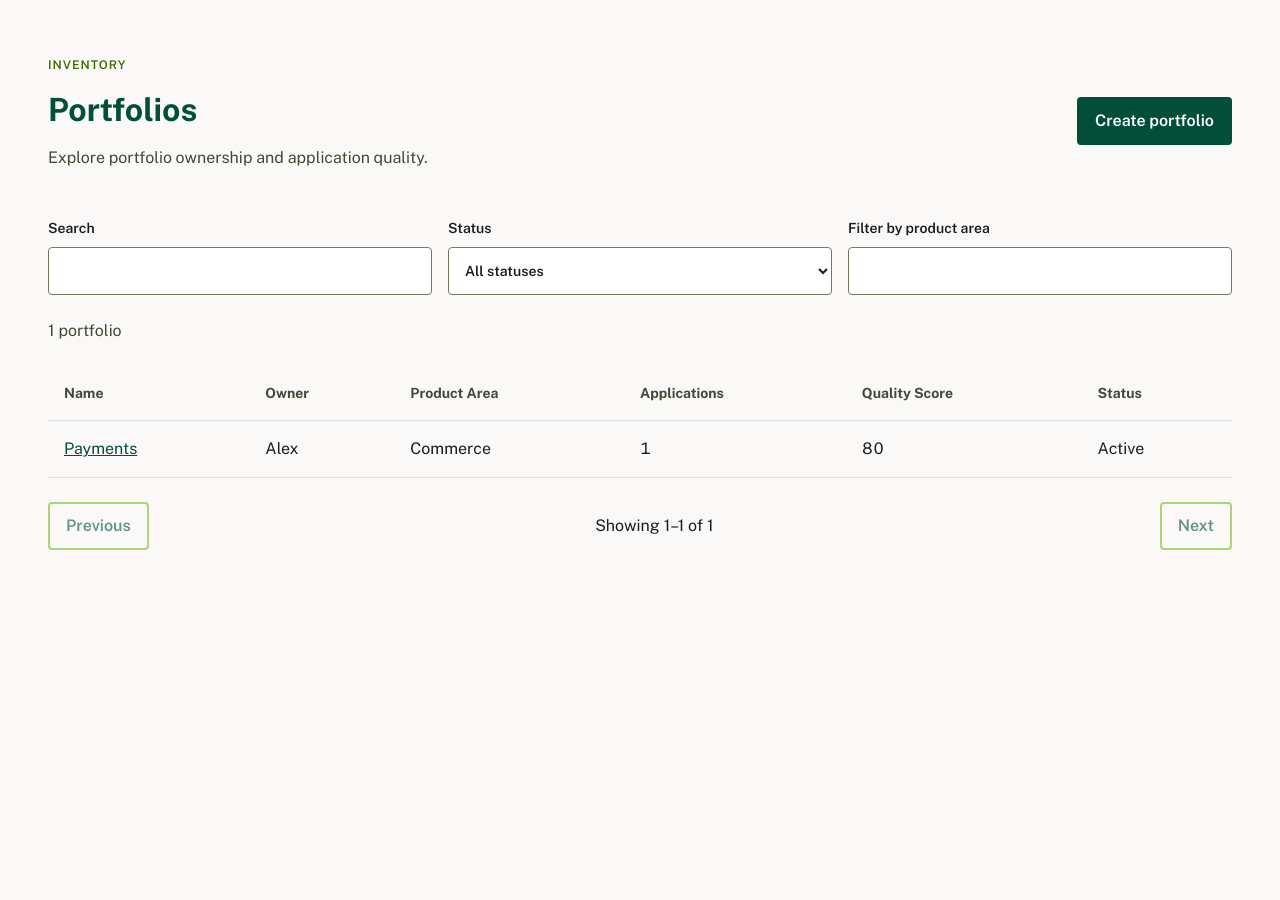
filters the inventory and creates a complete portfolio
Expected: the link "Payments" is shown, [64, 439, 137, 458]
Type "Pay" into the field labelled "Search" at (240, 271), box [48, 247, 432, 295]
Click the button "Create portfolio" at (1154, 121), box [1077, 97, 1232, 145]
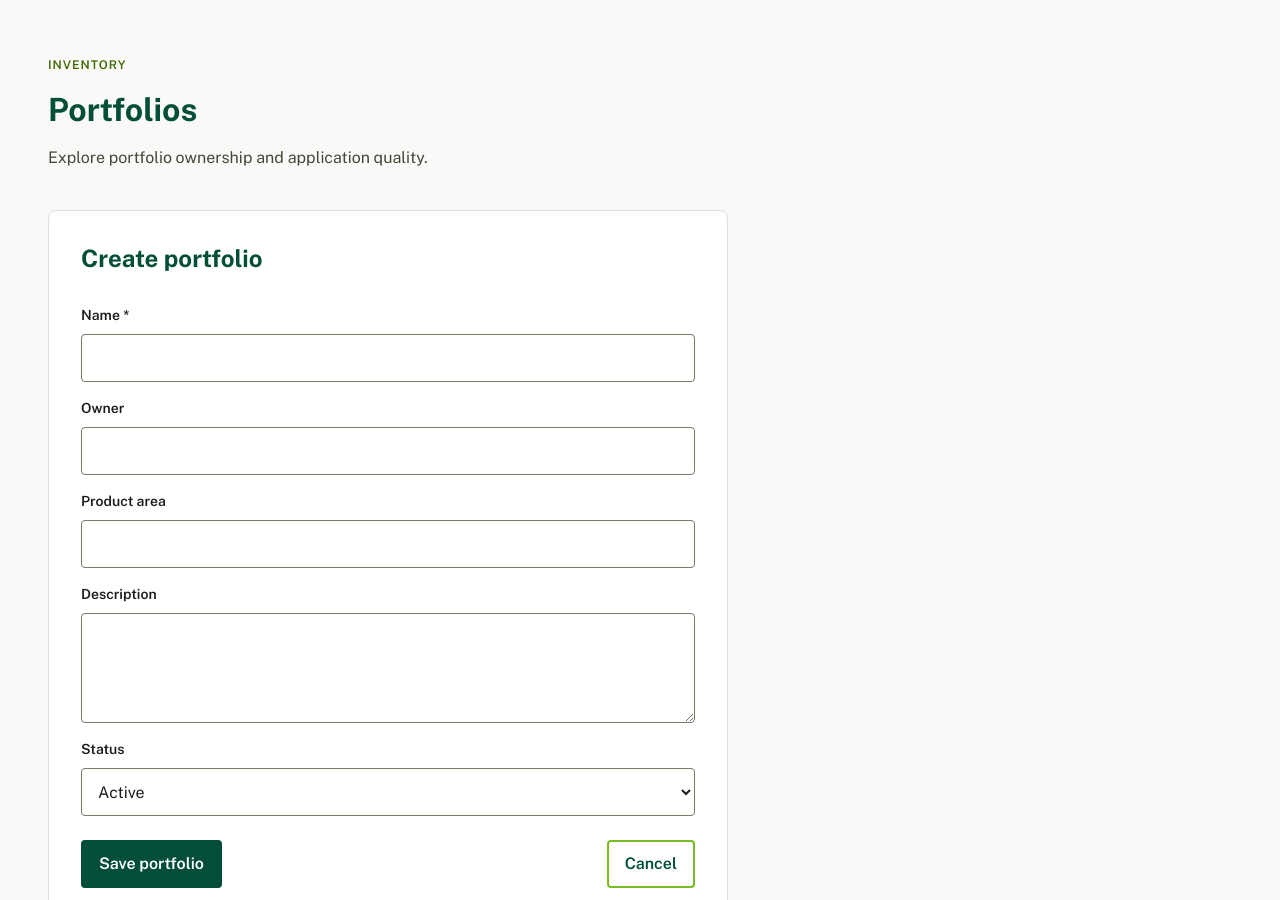
Type "Payments New" into the field labelled "Name *" at (388, 358), box [81, 334, 695, 382]
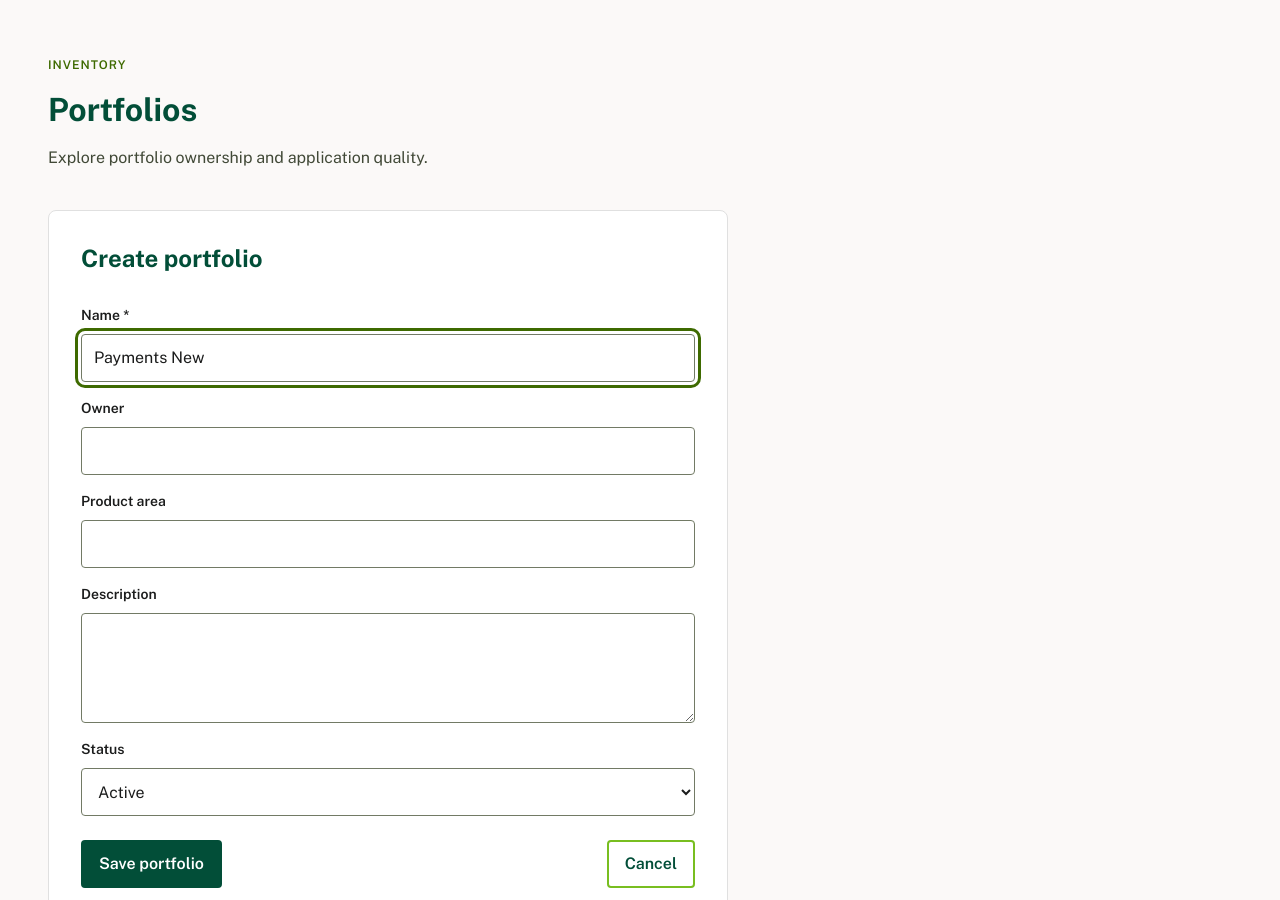
Type "Alex" into the field labelled "Owner" at (388, 451), box [81, 427, 695, 475]
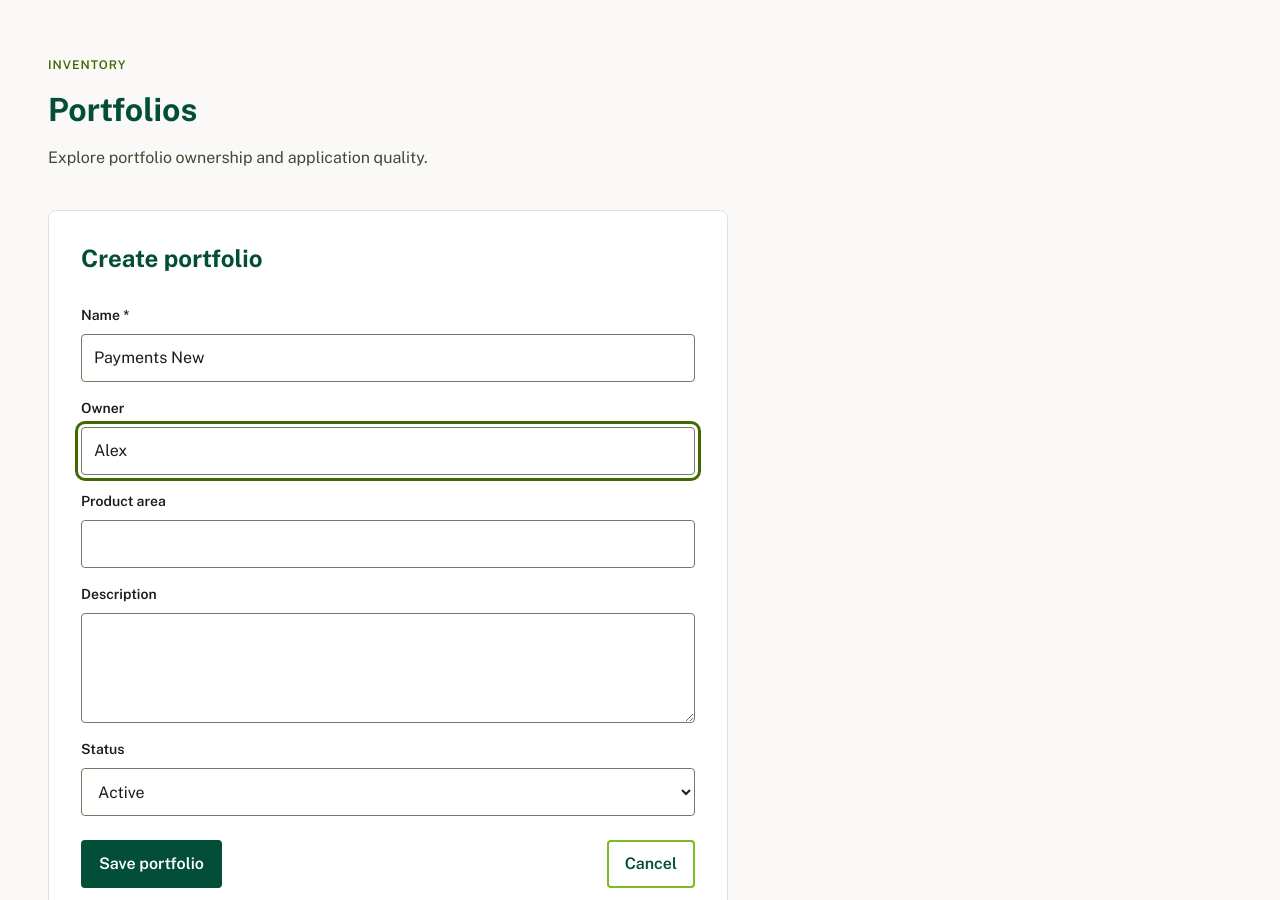
Type "Commerce" into the field labelled "Product area" at (388, 544), box [81, 520, 695, 568]
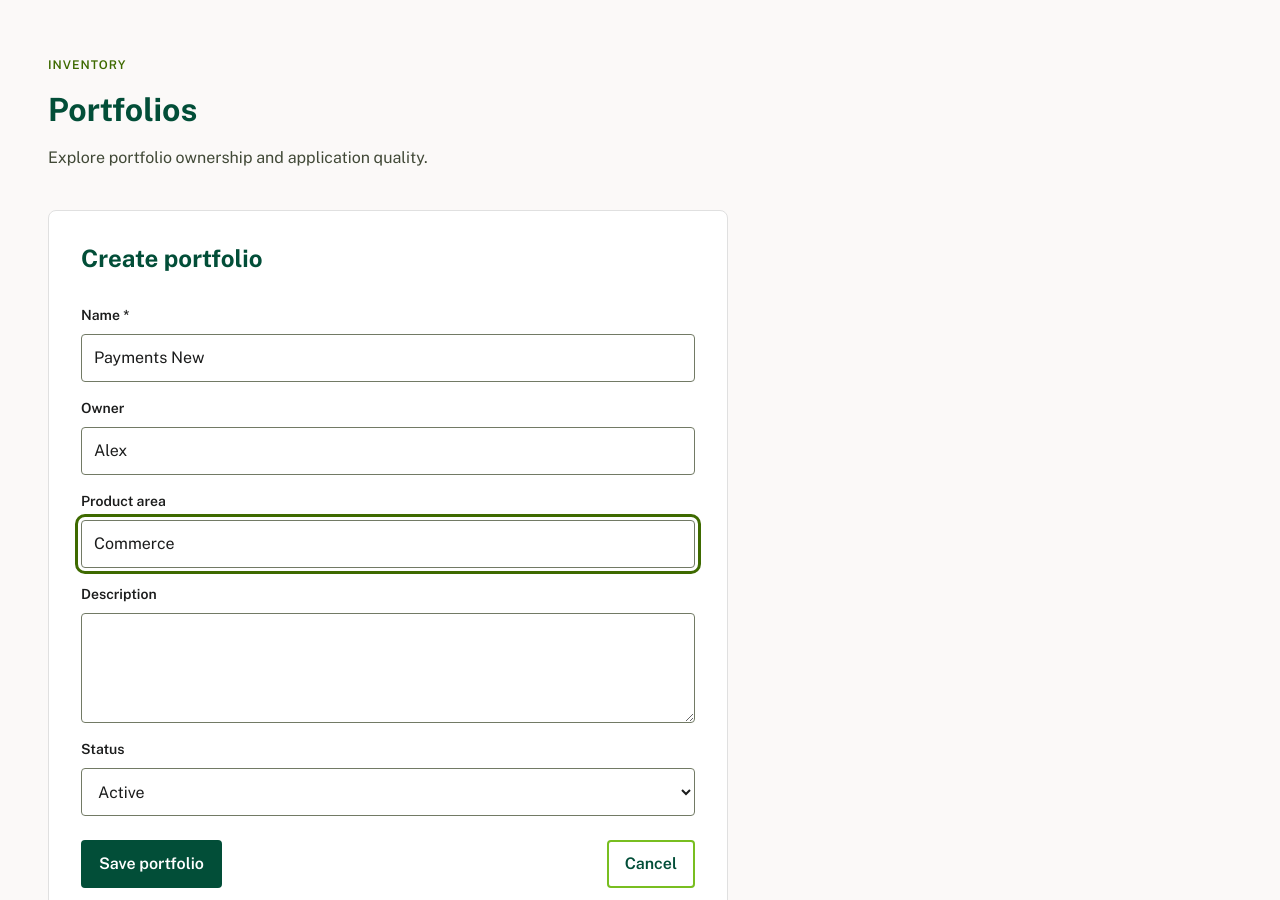
Type "Payment services" into the text box labelled "Description" at (388, 668), box [81, 613, 695, 723]
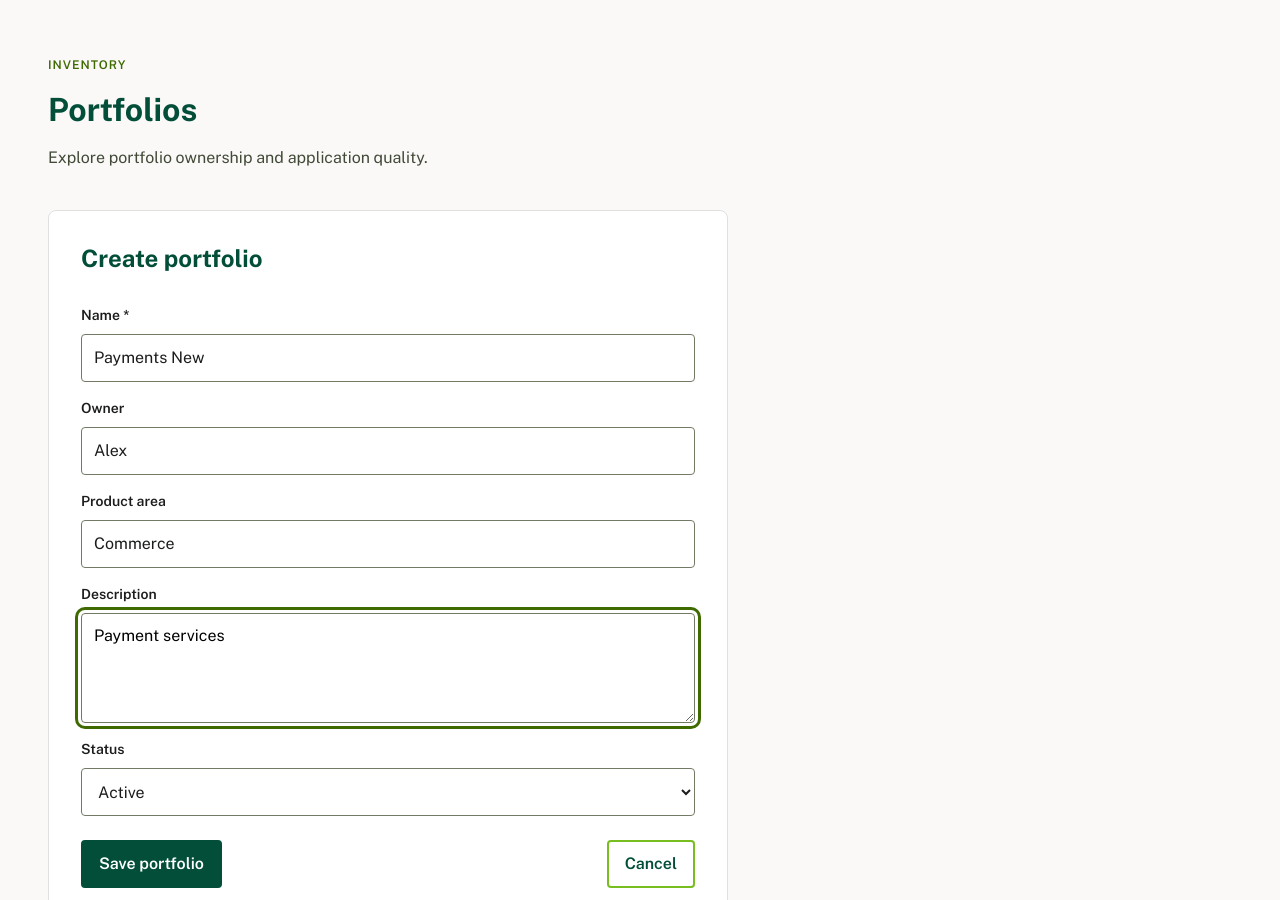
Click the button "Save portfolio" at (152, 864), box [81, 840, 222, 888]
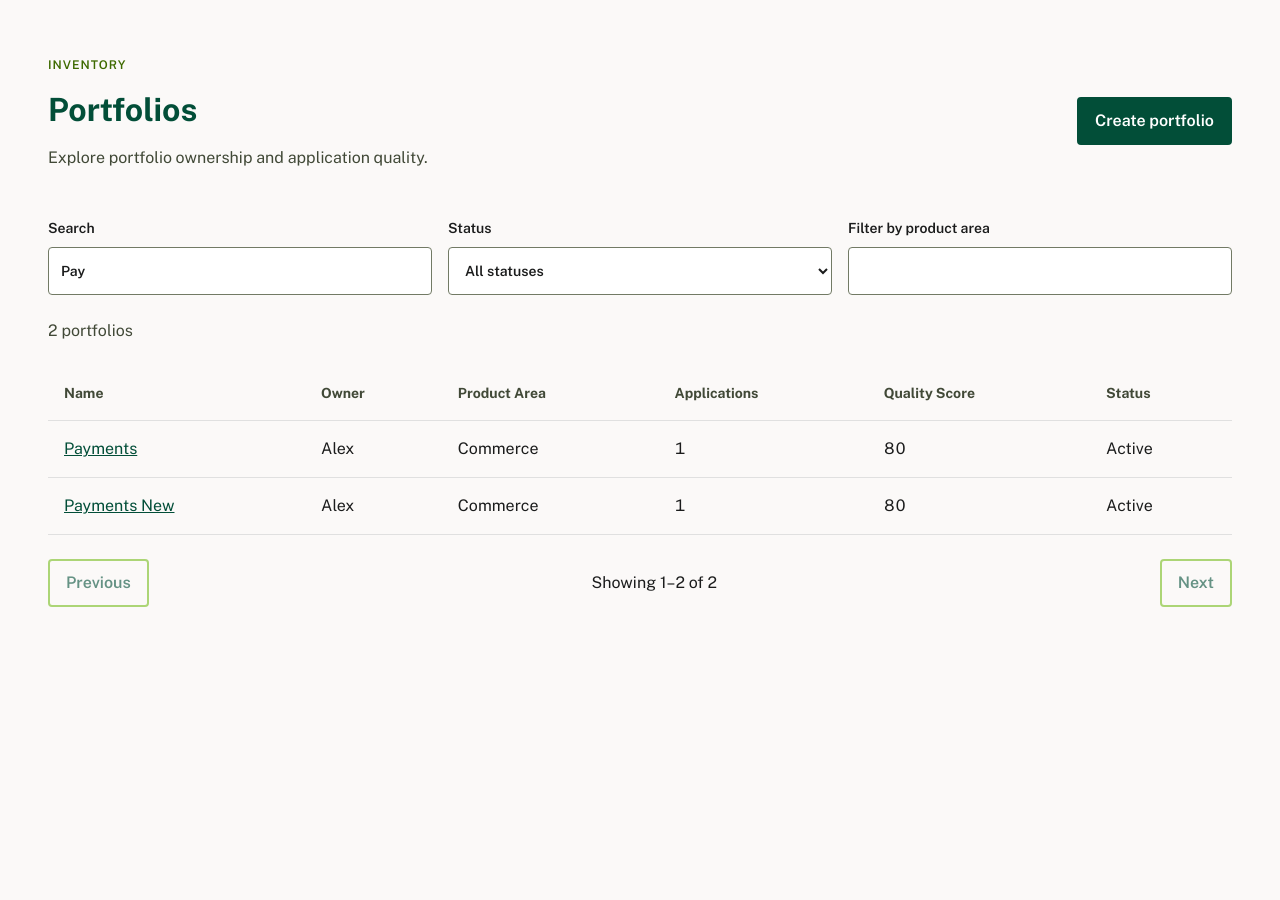
Expected: the button "Create portfolio" is shown, [1077, 97, 1232, 145]
Expected: the link "Payments New" is shown, [64, 496, 174, 515]
